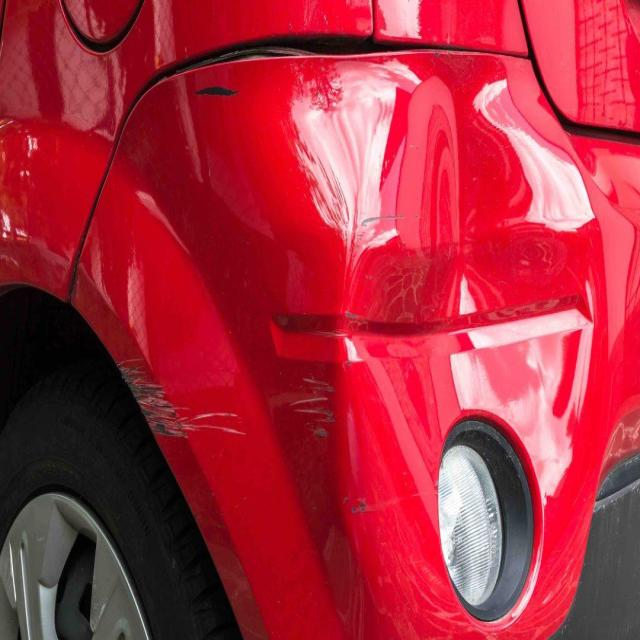dent: (328, 49, 618, 639)
scratch: (116, 356, 247, 444), (286, 372, 340, 436)
